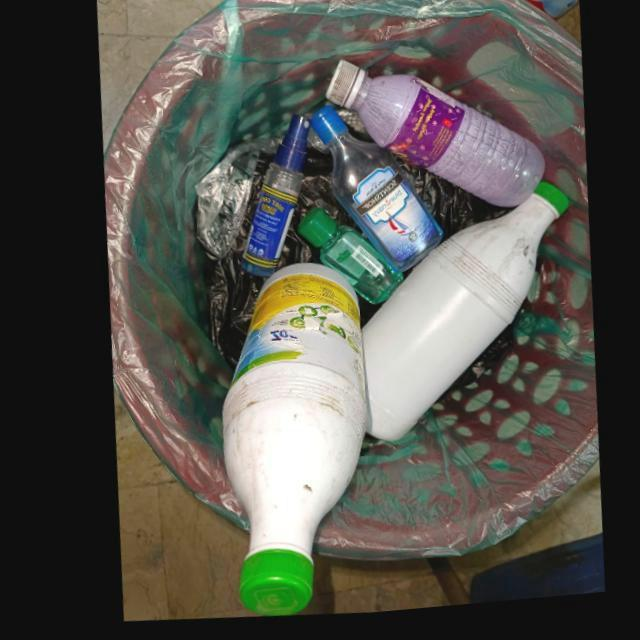plastic_bottle: (353, 190, 566, 448), (213, 265, 361, 620), (323, 66, 541, 216), (308, 111, 438, 279), (234, 118, 307, 281), (291, 212, 398, 311)
